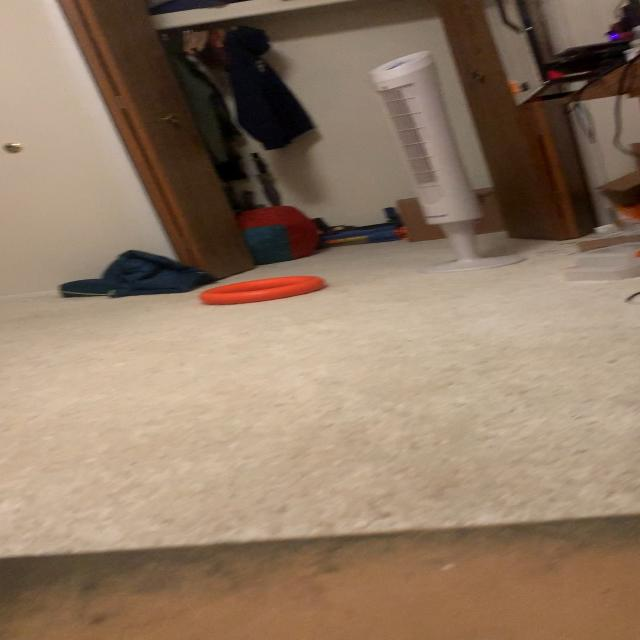notes: (204, 277, 326, 304)
